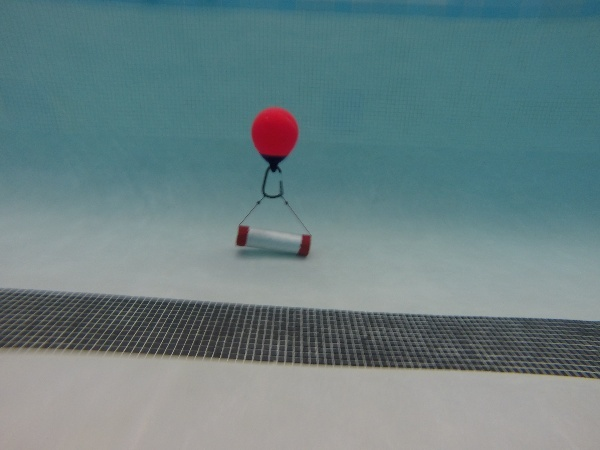buoy_red: (250, 106, 300, 173)
